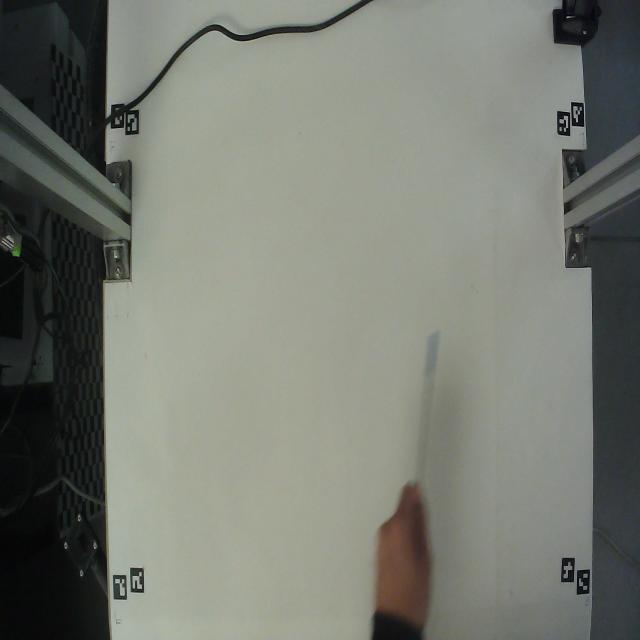NoPres: (388, 302, 455, 506)
